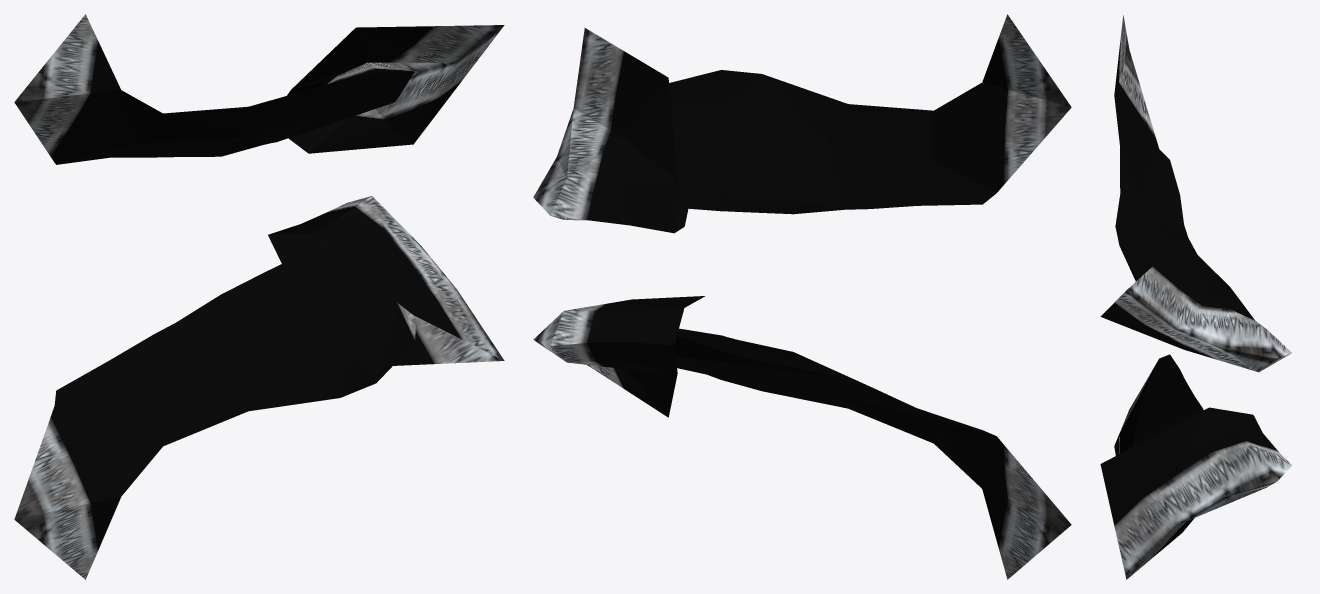
File: Dark_Knight_Wing_Warrior0.FBX
The picture shows the model from 3 angles, left to right: view 1: azimuth 30°, elevation 25°; view 2: azimuth 150°, elevation 25°; view 3: azimuth 270°, elevation 25°; orthographic projection. The views are drawn at different scales.
Parts seen in each view (by area): view 1: Dark_Knight_Wing01; view 2: Dark_Knight_Wing01; view 3: Dark_Knight_Wing01.
Part boxes in pixels (x1,y1,x2,y2): Dark_Knight_Wing01: (14,14,504,579); Dark_Knight_Wing01: (533,14,1071,579); Dark_Knight_Wing01: (1100,15,1291,579).
Size of the model in its own units: 2.14 by 2.37 by 0.9038.
